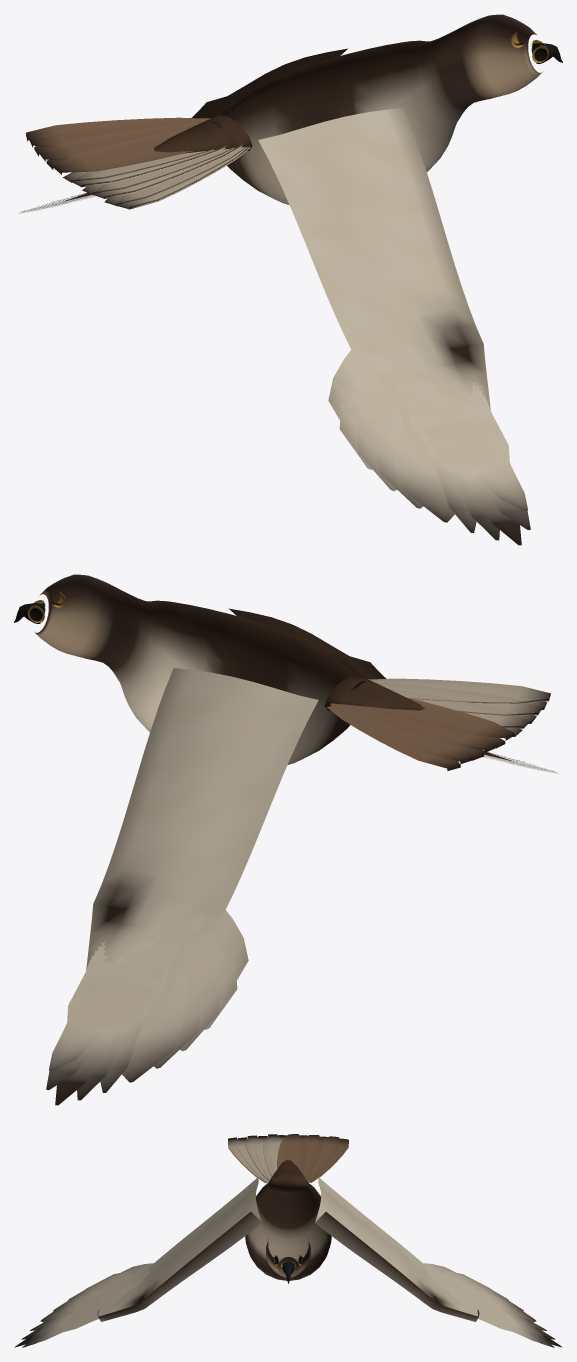
The model's file is SM_Bird_buzzard_flap2.glb.
3 renders of one model, top to bottom at view 1: azimuth 30°, elevation 25°; view 2: azimuth 150°, elevation 25°; view 3: azimuth 270°, elevation 25°, orthographic. The views are drawn at different scales.
Visible parts, largest first — view 1: SM_Bird_buzzard_flap2; view 2: SM_Bird_buzzard_flap2; view 3: SM_Bird_buzzard_flap2.
Part boxes in pixels (x1=…): SM_Bird_buzzard_flap2: x1=18, y1=14, x2=562, y2=545; SM_Bird_buzzard_flap2: x1=14, y1=574, x2=558, y2=1105; SM_Bird_buzzard_flap2: x1=15, y1=1134, x2=561, y2=1347.
Size of the model in its own units: 0.5872 by 0.3411 by 0.9558.
